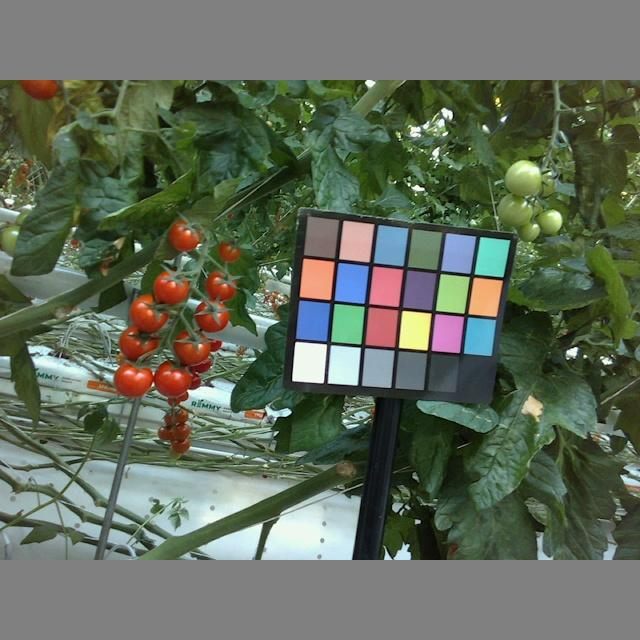green: (502, 156, 546, 197), (495, 192, 534, 228), (537, 207, 562, 237), (517, 218, 545, 243)
red: (118, 327, 164, 362), (152, 358, 192, 397), (127, 293, 168, 330), (151, 269, 190, 307), (115, 360, 153, 399), (173, 329, 214, 364), (192, 298, 230, 332), (203, 270, 239, 302), (166, 219, 201, 251), (219, 238, 241, 264)
